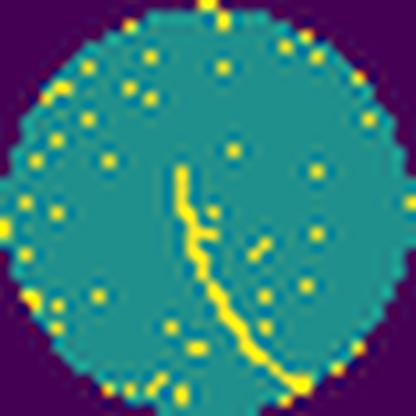Scratch: (168, 156, 314, 400)
